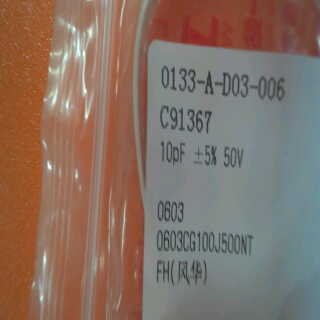10pF: (159, 137, 199, 168)
